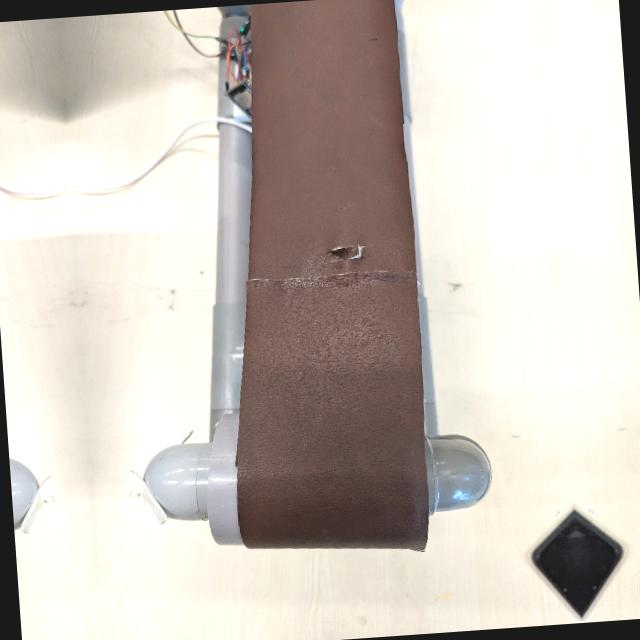joint_damage: (312, 240, 393, 279)
